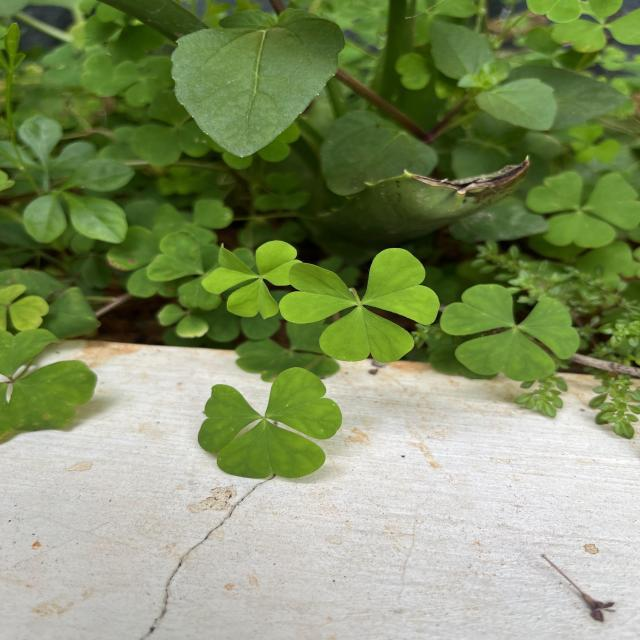Oxalis corniculata: (278, 246, 441, 364), (197, 364, 344, 481), (439, 283, 580, 382), (524, 170, 640, 250), (200, 240, 304, 320)
